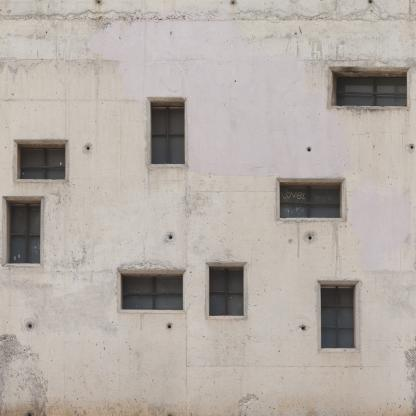Building Outline: (0, 0, 416, 416)
Facade: (0, 0, 416, 416)
Window: (332, 71, 407, 107), (122, 274, 184, 310), (7, 201, 41, 265), (321, 285, 355, 349), (280, 182, 342, 217), (151, 101, 185, 163), (18, 144, 66, 179), (209, 267, 244, 315)
